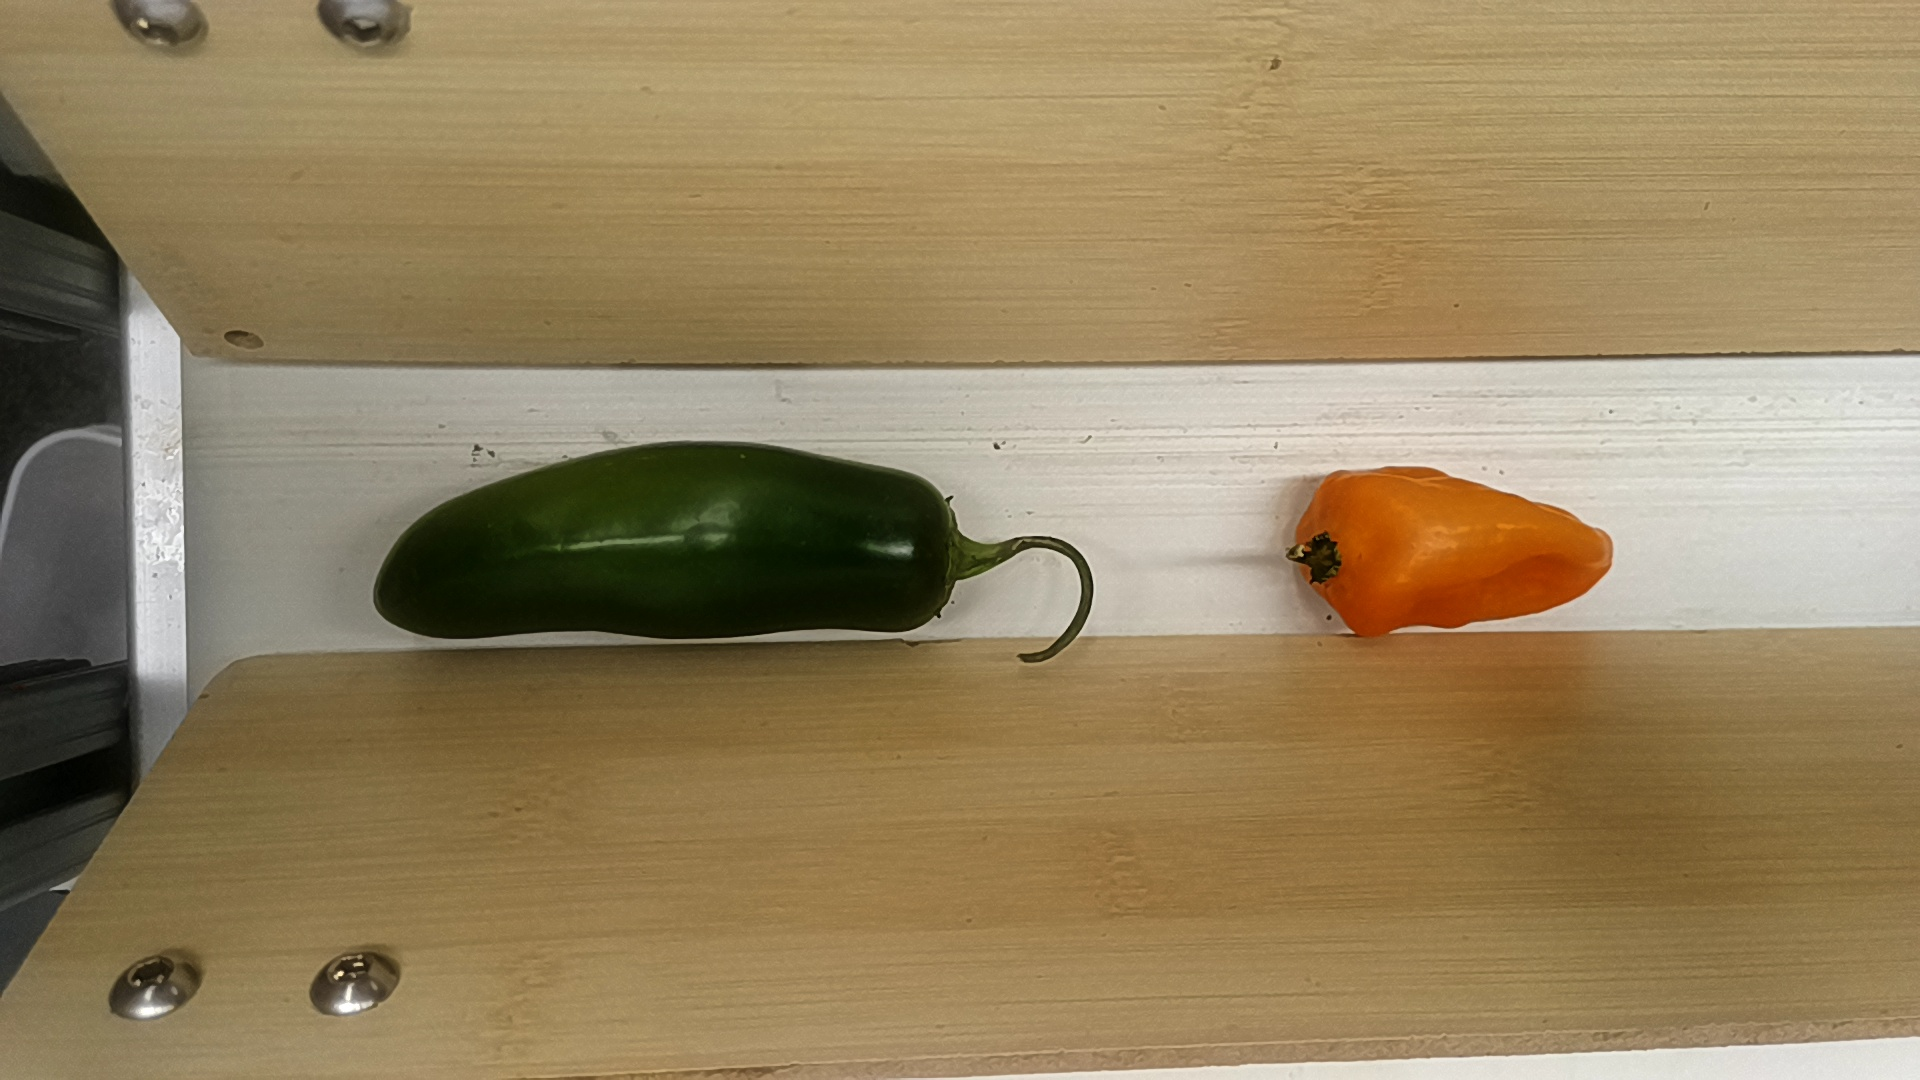Cut Point: (907, 469, 981, 634), (1305, 465, 1364, 647)
